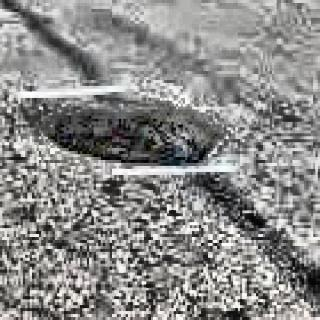crack: (41, 93, 221, 169)
